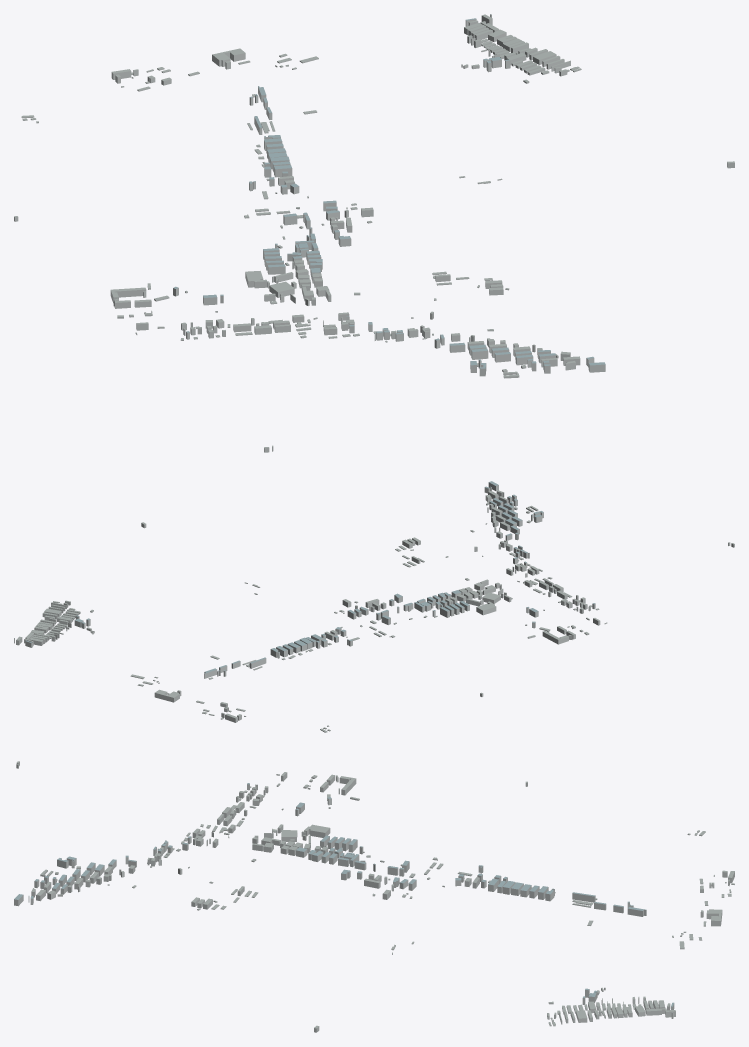
Rendered from far.glb.
3 renders of one model, top to bottom at view 1: azimuth 30°, elevation 25°; view 2: azimuth 150°, elevation 25°; view 3: azimuth 270°, elevation 25°, orthographic. The views are drawn at different scales.
Bounding box in the file's own units: 1787 × 23.8 × 2033.
